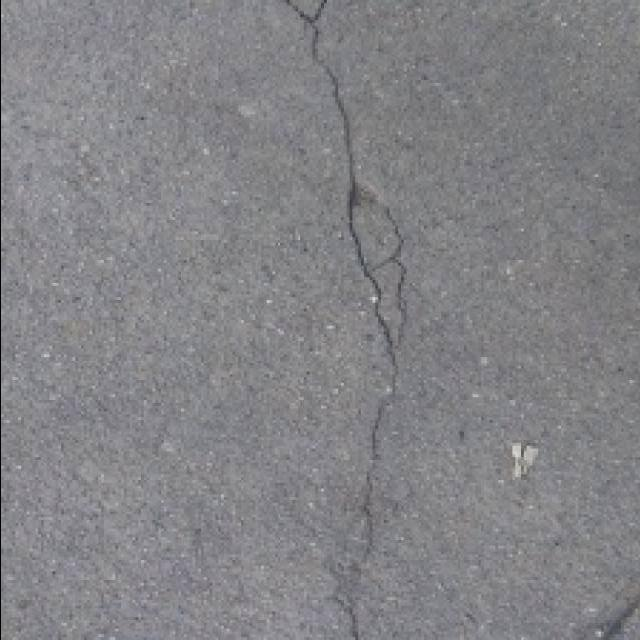SurfaceCrack: (262, 0, 420, 640)
